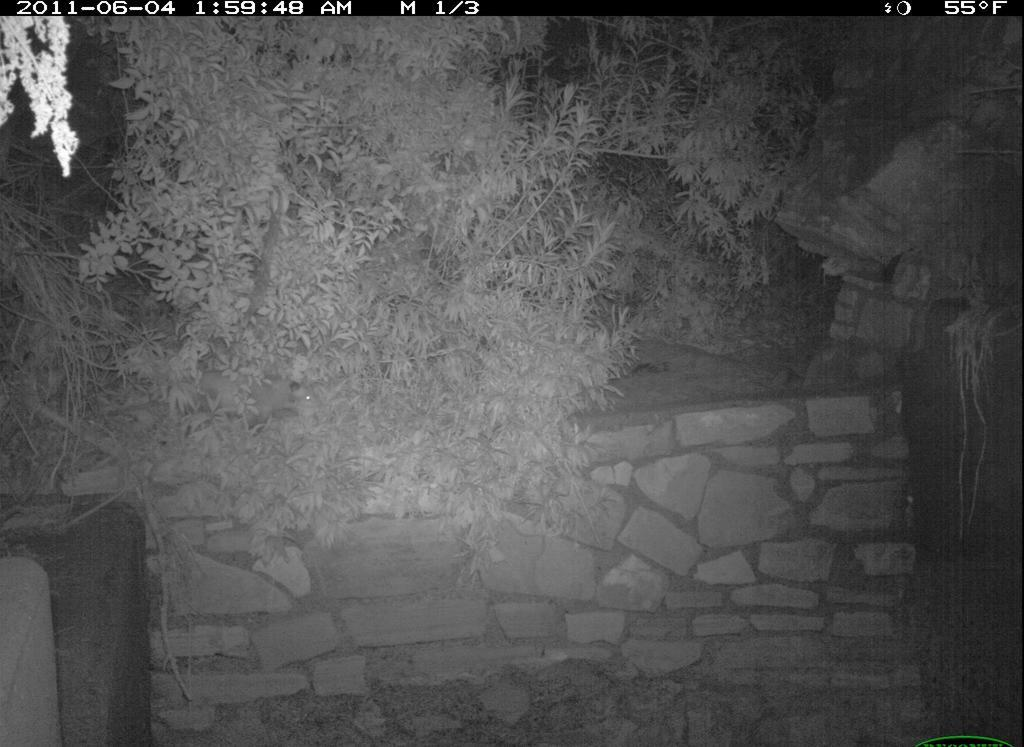opossum: (163, 365, 333, 440)
